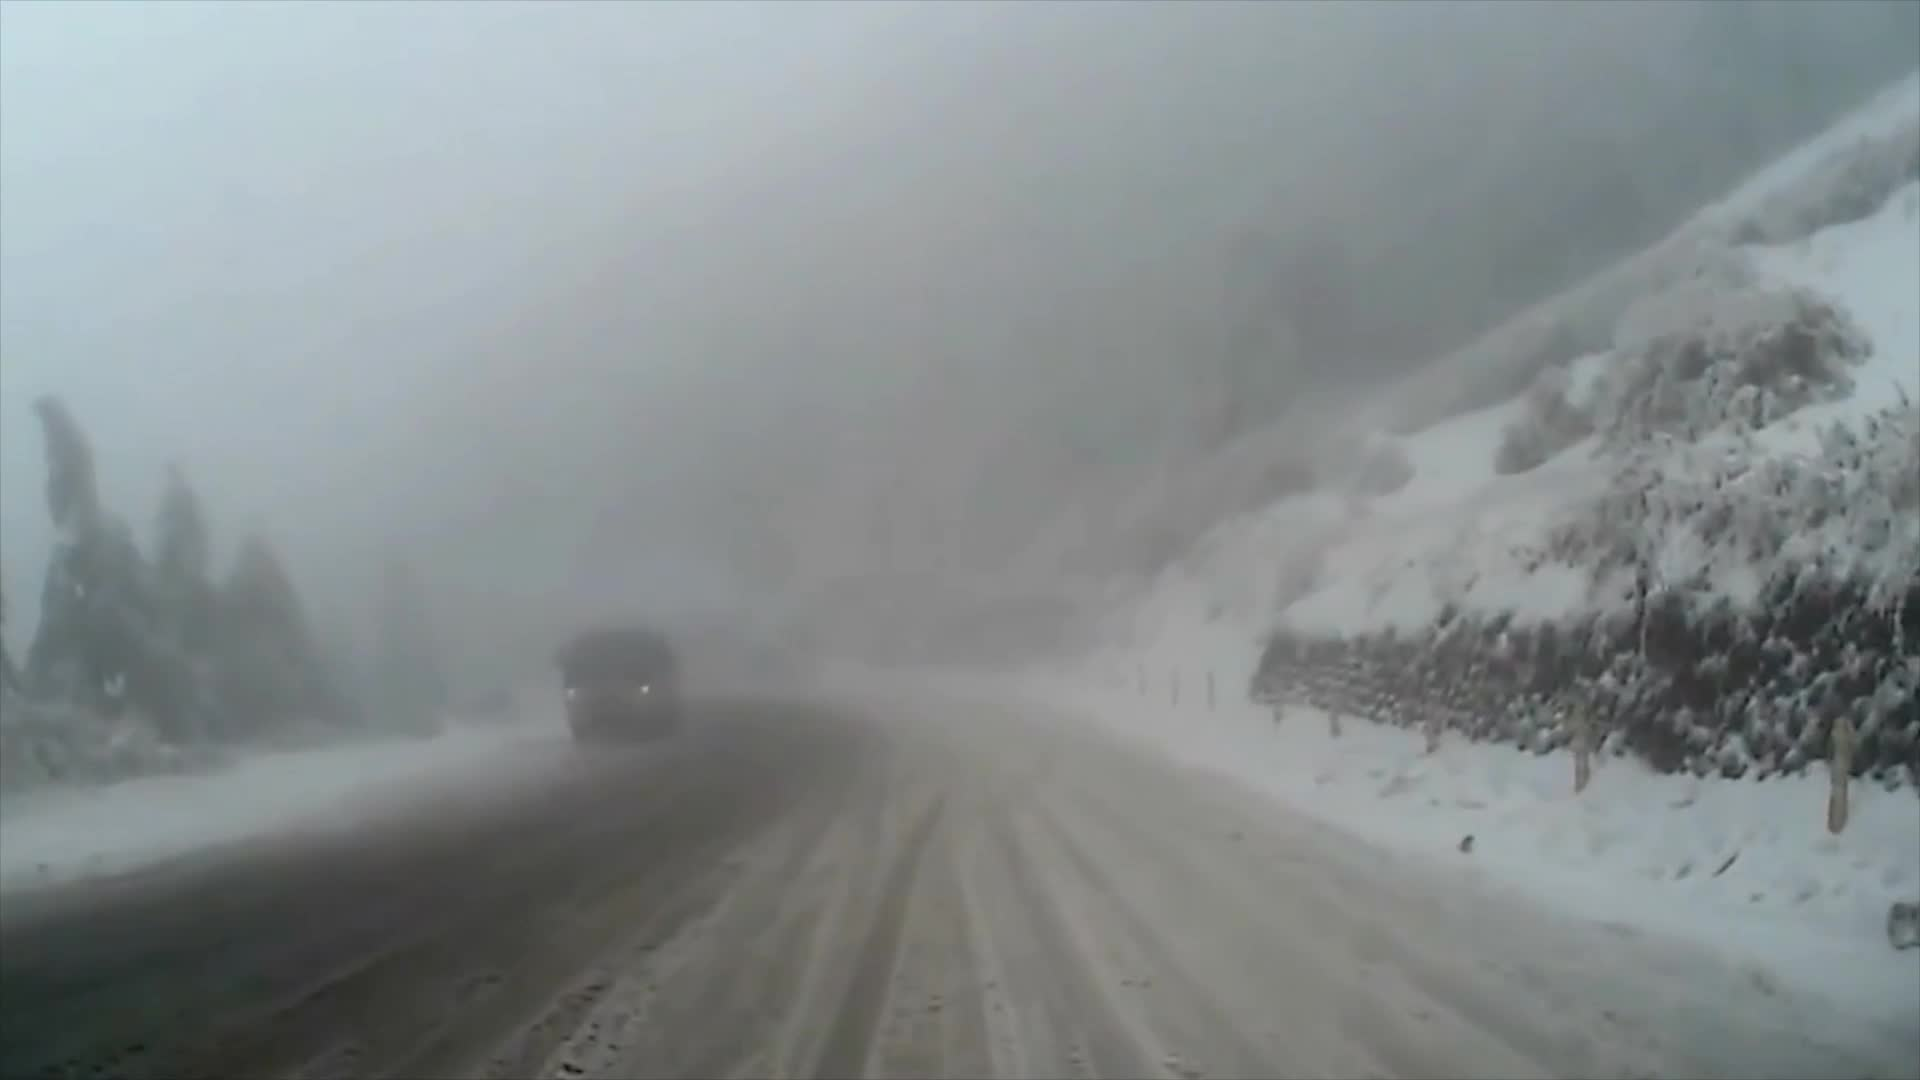vehicle: (553, 621, 683, 738)
